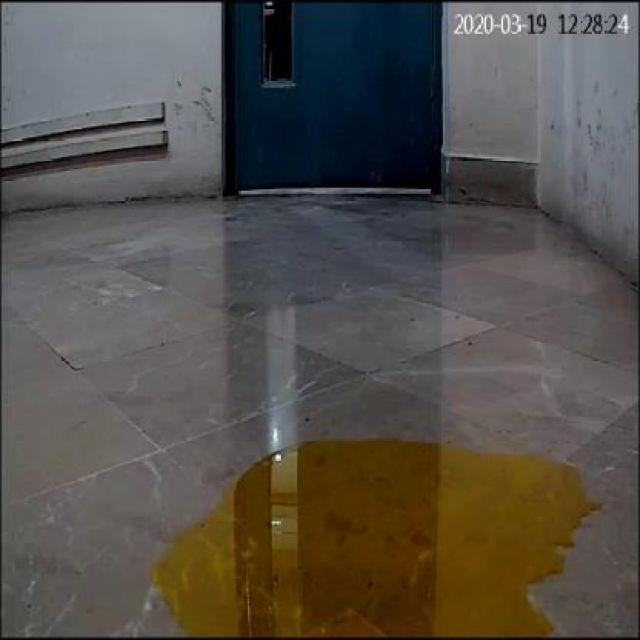spill: (146, 436, 594, 630)
